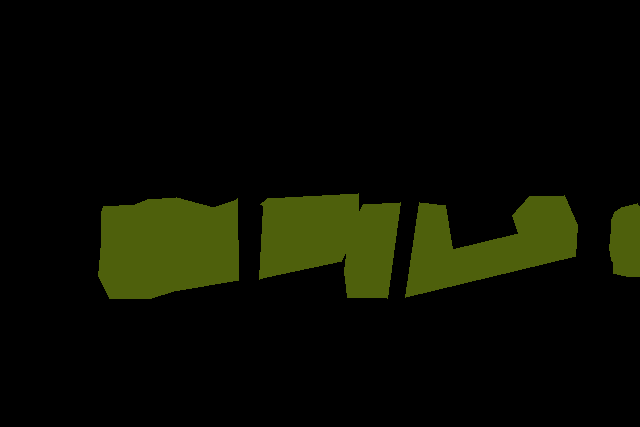Train: (98, 193, 359, 298), (344, 195, 577, 298), (609, 203, 640, 277)
